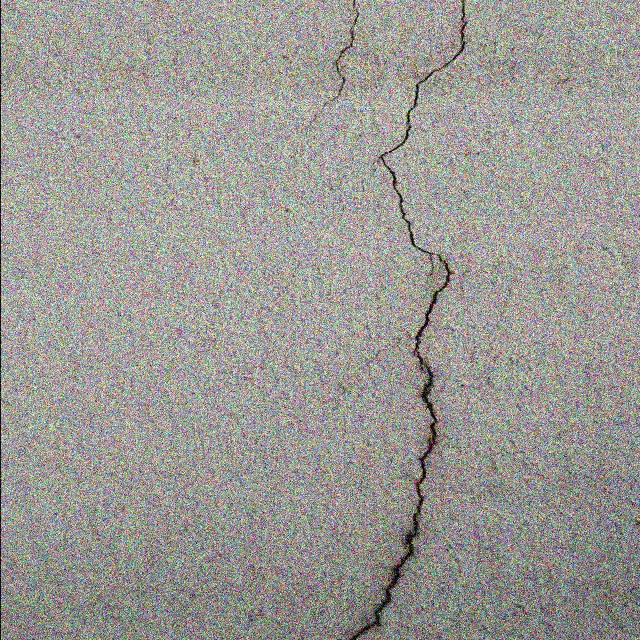SurfaceCrack: (298, 1, 475, 640)
